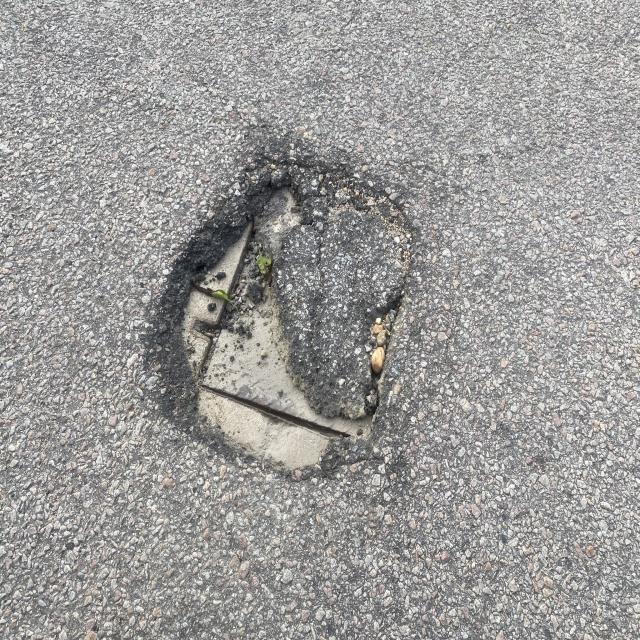pothole: (117, 120, 451, 524)
